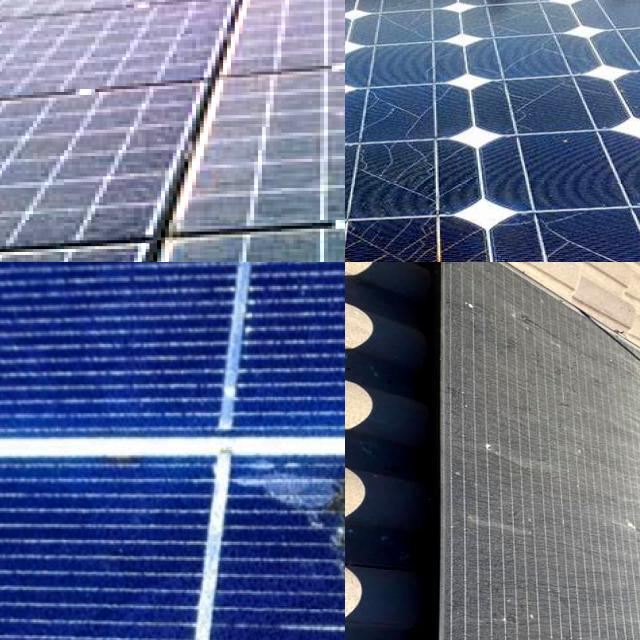dust: (549, 341, 639, 640), (0, 100, 175, 249), (442, 262, 537, 516), (0, 0, 197, 96), (254, 97, 345, 203), (441, 529, 527, 640)
shadow: (261, 430, 345, 640), (345, 180, 485, 262)
